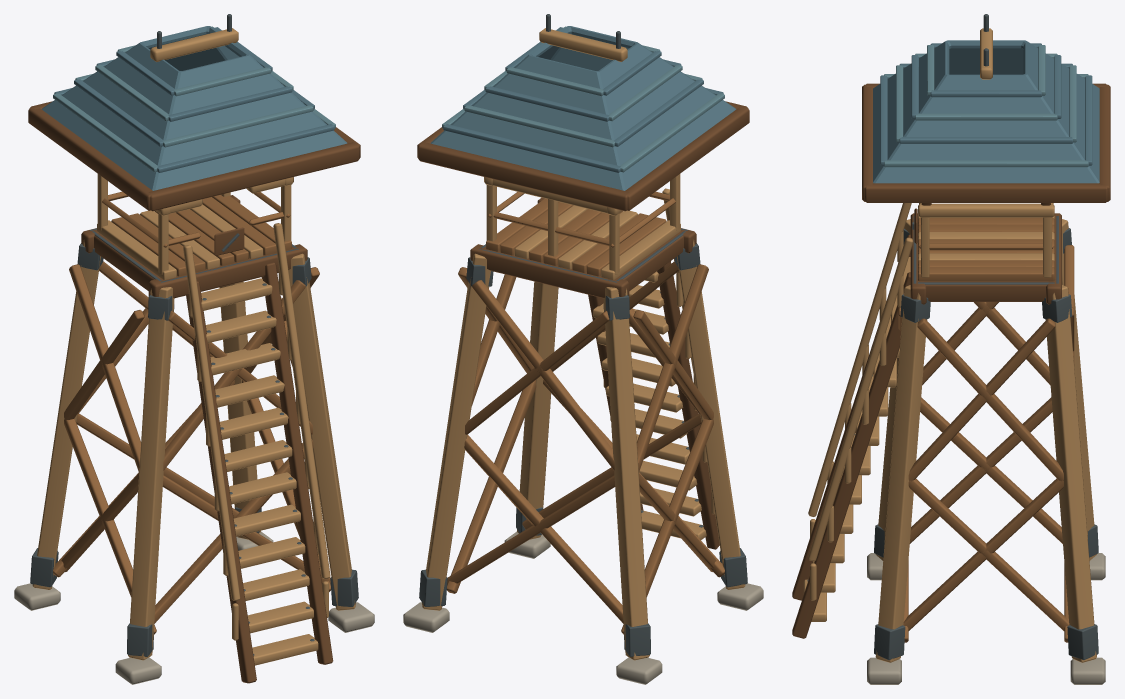
Rendered from tower.glb.
The picture shows the model from 3 angles, left to right: view 1: azimuth 30°, elevation 25°; view 2: azimuth 150°, elevation 25°; view 3: azimuth 270°, elevation 25°; orthographic projection.
Visible parts, largest first — view 1: Steep four-sided shingle roof, Tapered corner post, Tapered corner post.002, Right stair stringer, Tapered corner post.001, Roof eave fascia, Stair sloped handrail, Stair sloped handrail.001, Left stair stringer, Roof eave fascia.002, Side rising brace.001, Heavy platform crossbeam (+52 smaller); view 2: Steep four-sided shingle roof, Tapered corner post.001, Tapered corner post.003, Tapered corner post, Tapered corner post.002, Roof eave fascia.001, Heavy platform crossbeam.001, Roof eave fascia.002, Front and back rising brace.002, Left stair stringer, Front and back rising brace.003, Side falling brace.002 (+50 smaller); view 3: Steep four-sided shingle roof, Tapered corner post.002, Tapered corner post.003, Roof eave fascia.003, Right stair stringer, Stair sloped handrail.001, Stair sloped handrail, Side falling brace.002, Side falling brace.003, Side rising brace.002, Side rising brace.003, Heavy platform side beam.001 (+41 smaller).
Boxes of the visible parts, x1=… form: Steep four-sided shingle roof: x1=41, y1=26, x2=347, y2=190; Tapered corner post: x1=128, y1=287, x2=174, y2=660; Tapered corner post.002: x1=288, y1=253, x2=356, y2=610; Right stair stringer: x1=262, y1=262, x2=333, y2=664; Tapered corner post.001: x1=32, y1=239, x2=100, y2=589; Roof eave fascia: x1=148, y1=142, x2=359, y2=211; Stair sloped handrail: x1=183, y1=245, x2=240, y2=600; Stair sloped handrail.001: x1=273, y1=223, x2=330, y2=578; Left stair stringer: x1=186, y1=281, x2=256, y2=683; Roof eave fascia.002: x1=28, y1=107, x2=154, y2=210; Side rising brace.001: x1=69, y1=264, x2=140, y2=472; Heavy platform crossbeam: x1=148, y1=244, x2=307, y2=297; Steep four-sided shingle roof: x1=430, y1=26, x2=736, y2=190; Tapered corner post.001: x1=603, y1=287, x2=649, y2=660; Tapered corner post.003: x1=421, y1=253, x2=490, y2=610; Tapered corner post: x1=677, y1=239, x2=745, y2=589; Tapered corner post.002: x1=517, y1=281, x2=558, y2=539; Roof eave fascia.001: x1=418, y1=142, x2=629, y2=211; Heavy platform crossbeam.001: x1=470, y1=244, x2=629, y2=297; Roof eave fascia.002: x1=625, y1=106, x2=749, y2=210; Front and back rising brace.002: x1=464, y1=435, x2=623, y2=623; Left stair stringer: x1=657, y1=261, x2=719, y2=549; Front and back rising brace.003: x1=472, y1=280, x2=614, y2=470; Side falling brace.002: x1=447, y1=380, x2=536, y2=593; Steep four-sided shingle roof: x1=873, y1=40, x2=1099, y2=183; Tapered corner post.002: x1=875, y1=285, x2=927, y2=662; Tapered corner post.003: x1=1045, y1=285, x2=1096, y2=662; Roof eave fascia.003: x1=864, y1=183, x2=1108, y2=202; Right stair stringer: x1=792, y1=272, x2=910, y2=638; Stair sloped handrail.001: x1=808, y1=237, x2=913, y2=561; Stair sloped handrail: x1=808, y1=203, x2=911, y2=516; Side falling brace.002: x1=908, y1=478, x2=1069, y2=630; Side falling brace.003: x1=917, y1=318, x2=1063, y2=481; Side rising brace.002: x1=903, y1=478, x2=1063, y2=630; Side rising brace.003: x1=908, y1=318, x2=1055, y2=481; Heavy platform side beam.001: x1=917, y1=279, x2=1055, y2=301.
Size of the model in its own units: 3.92 by 9.01 by 4.38.
